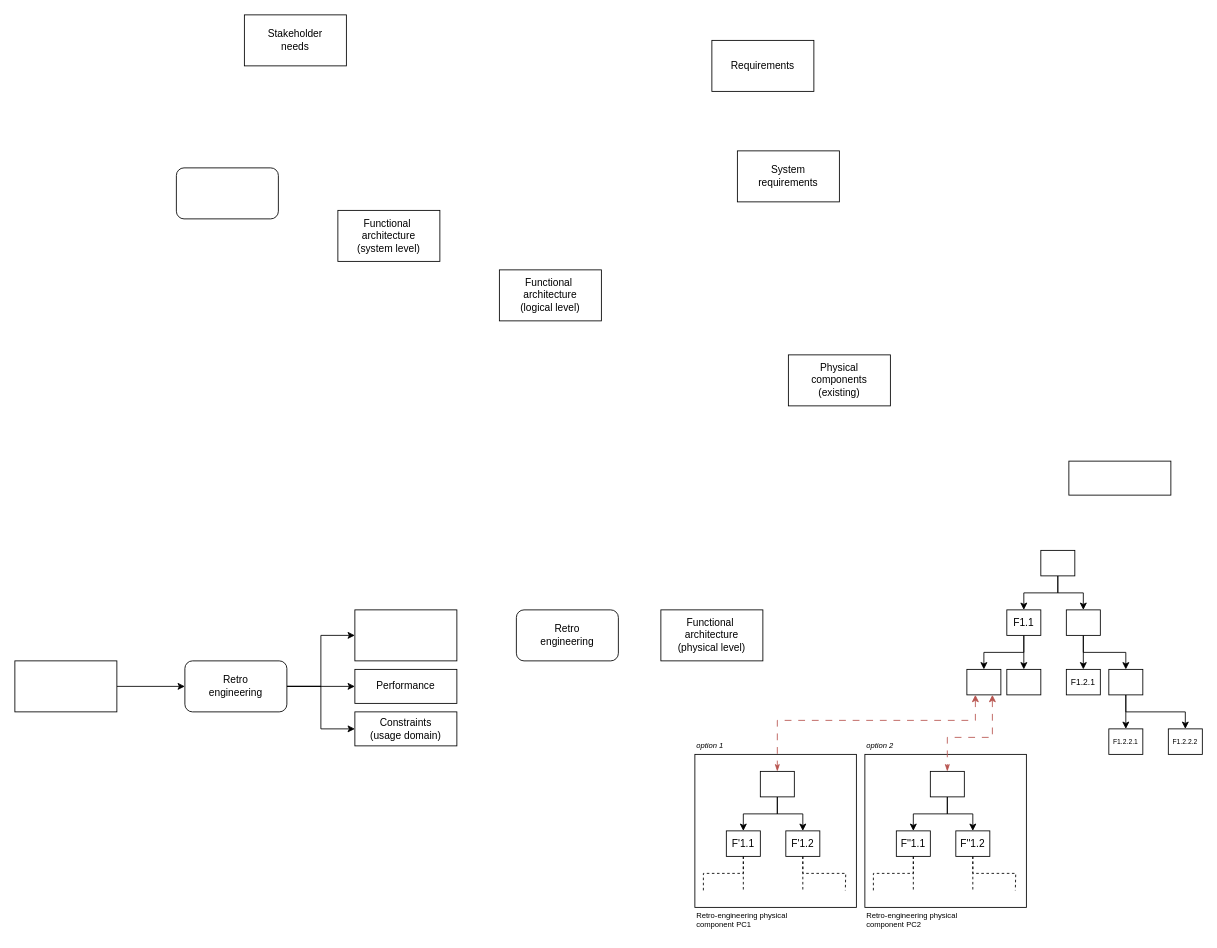
This 1217x948 diagram has some shape labels left out. The centre of each missing label's shape, as x and y in pixels:
"F''1" belongs at point 946,784.
"F'1" belongs at point 776,784.
"F1" belongs at point 1057,563.
"F1.1.1" belongs at point 983,682.
"F1.1.2" belongs at point 1023,682.
"F1.2" belongs at point 1082,622.
"F1.2.2" belongs at point 1125,682.
"Functional architecture (physical level) for off-the-shelf components" belongs at point 405,635.
"Physical components (off-the-shelf" belongs at point 65,686.
